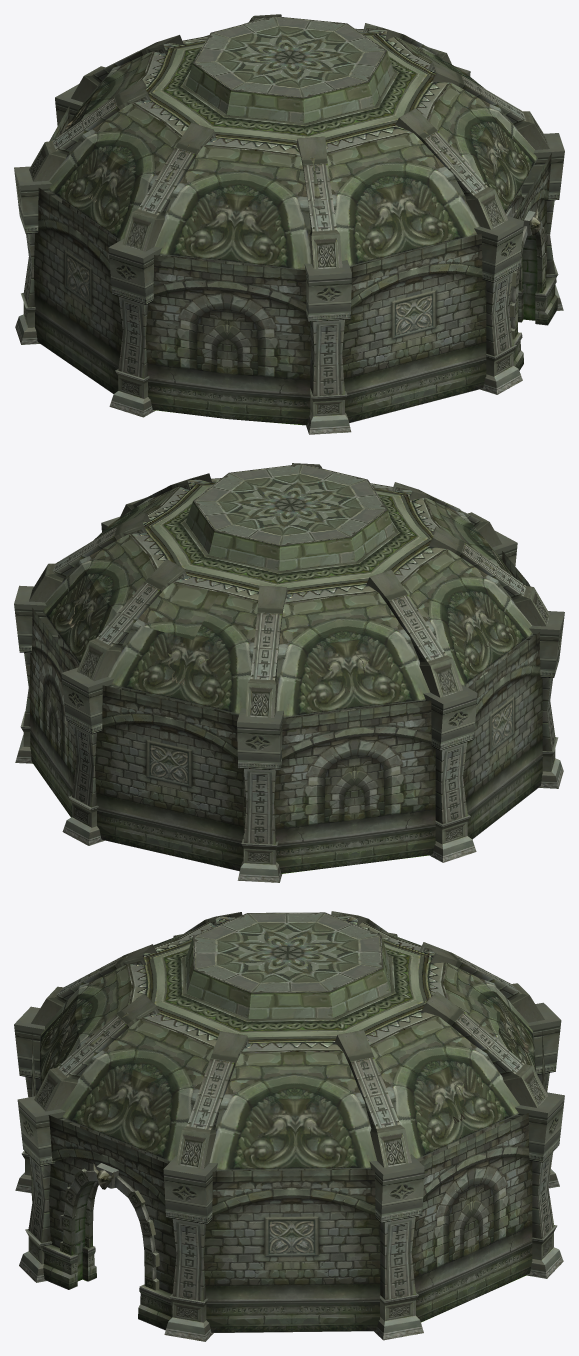
Rendered from ForsakenTemple_ROOM.FBX.
3 views of the same model, one above another, from view 1: azimuth 30°, elevation 25°; view 2: azimuth 150°, elevation 25°; view 3: azimuth 270°, elevation 25° (orthographic). The views are drawn at different scales.
Visible parts, largest first — view 1: ForsakenTemple_ROOM; view 2: ForsakenTemple_ROOM; view 3: ForsakenTemple_ROOM.
Boxes of the visible parts, x1,y1,x2,y2 form: ForsakenTemple_ROOM: (14, 14, 564, 434); ForsakenTemple_ROOM: (14, 463, 564, 882); ForsakenTemple_ROOM: (14, 911, 564, 1341).
Bounding box in the file's own units: 744 × 407 × 744.
